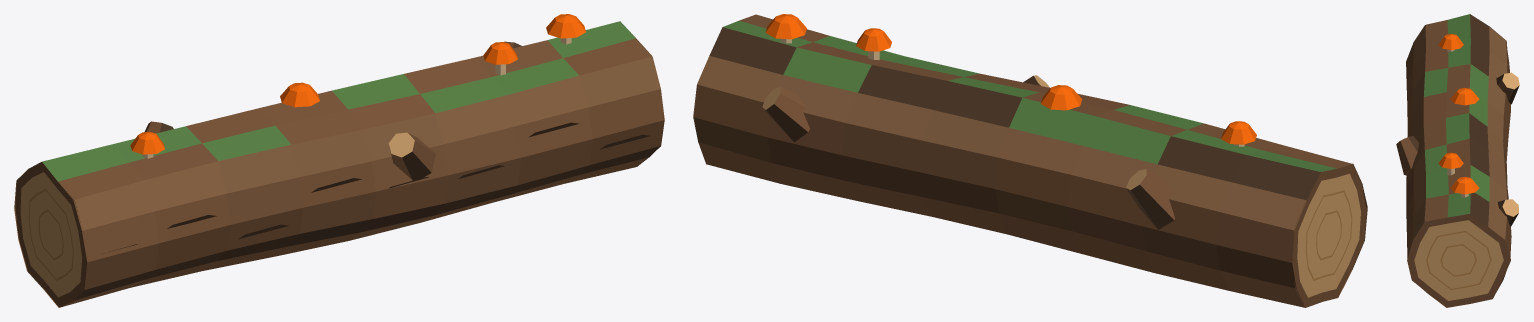
Rendered from log_two_lane.glb.
3 renders of one model, left to right at view 1: azimuth 30°, elevation 25°; view 2: azimuth 150°, elevation 25°; view 3: azimuth 270°, elevation 25°, orthographic. The views are drawn at different scales.
Visible parts, largest first — view 1: log_two_lane; view 2: log_two_lane; view 3: log_two_lane.
Boxes of the visible parts, x1,y1,x2,y2 form: log_two_lane: [14, 14, 664, 307]; log_two_lane: [693, 14, 1367, 307]; log_two_lane: [1396, 14, 1519, 307].
Bounding box in the file's own units: 4.8 × 1.25 × 1.26.
